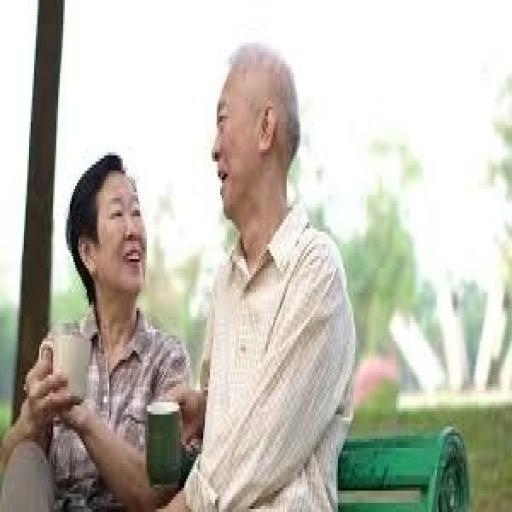sitting: (2, 37, 358, 509), (0, 149, 193, 509)
